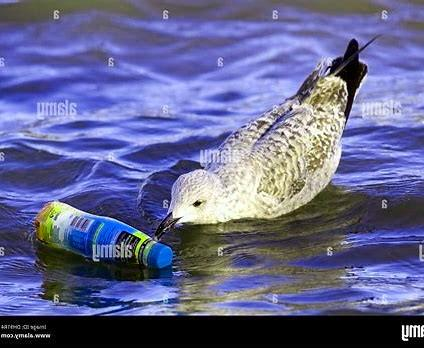Plastic: (32, 201, 173, 271)
